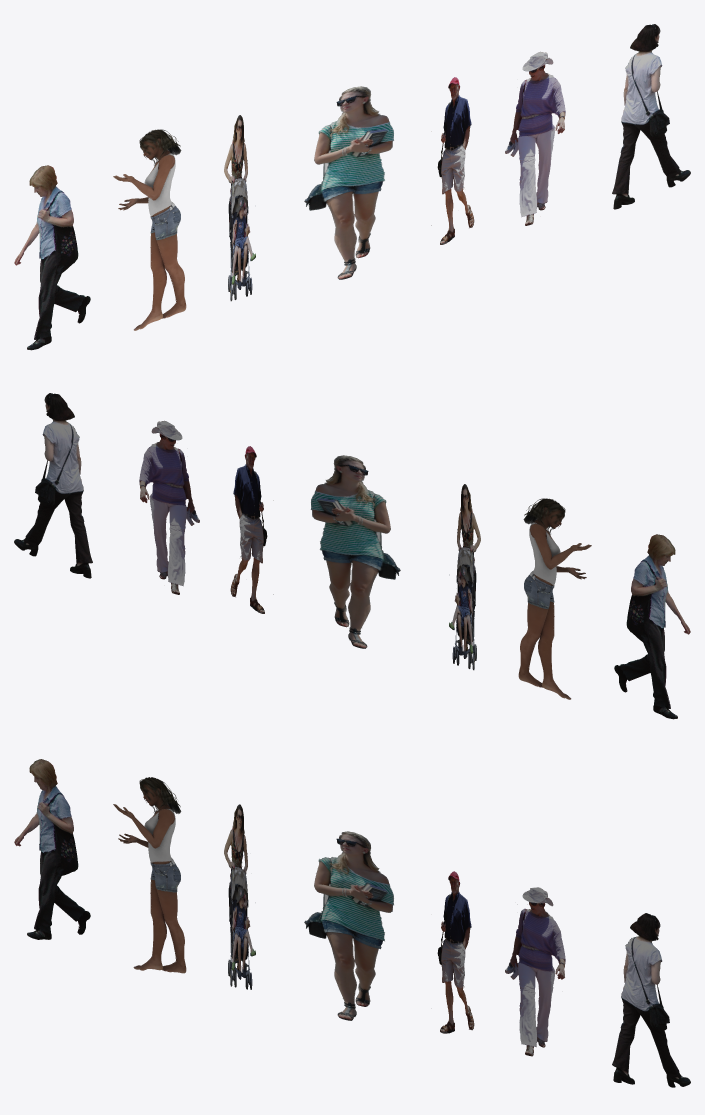
File: peeps.dae
The picture shows the model from 3 angles, top to bottom: view 1: azimuth 30°, elevation 25°; view 2: azimuth 150°, elevation 25°; view 3: azimuth 330°, elevation 25°; orthographic projection.
Visible parts, largest first — view 1: image_4, image_0, image_2, image_6, image_5, image_1, image_3; view 2: image_4, image_0, image_2, image_6, image_5, image_1, image_3; view 3: image_4, image_0, image_2, image_6, image_5, image_1, image_3.
Boxes of the visible parts, x1=… form: image_4: x1=304, y1=86, x2=394, y2=279; image_0: x1=113, y1=129, x2=186, y2=330; image_2: x1=505, y1=51, x2=565, y2=225; image_6: x1=612, y1=24, x2=690, y2=209; image_5: x1=14, y1=165, x2=90, y2=350; image_1: x1=224, y1=115, x2=255, y2=301; image_3: x1=431, y1=77, x2=474, y2=244; image_4: x1=310, y1=455, x2=400, y2=648; image_0: x1=518, y1=498, x2=591, y2=699; image_2: x1=139, y1=420, x2=199, y2=594; image_6: x1=14, y1=393, x2=92, y2=578; image_5: x1=614, y1=534, x2=690, y2=719; image_1: x1=449, y1=484, x2=480, y2=670; image_3: x1=230, y1=446, x2=273, y2=613; image_4: x1=304, y1=831, x2=393, y2=1020; image_0: x1=113, y1=777, x2=186, y2=973; image_2: x1=505, y1=887, x2=565, y2=1056; image_6: x1=612, y1=913, x2=690, y2=1087; image_5: x1=14, y1=759, x2=90, y2=939; image_1: x1=224, y1=804, x2=255, y2=989; image_3: x1=437, y1=871, x2=474, y2=1033.
Size of the model in its own units: 256 by 1.14e-13 by 71.04.
7 materials, 7 textured.
